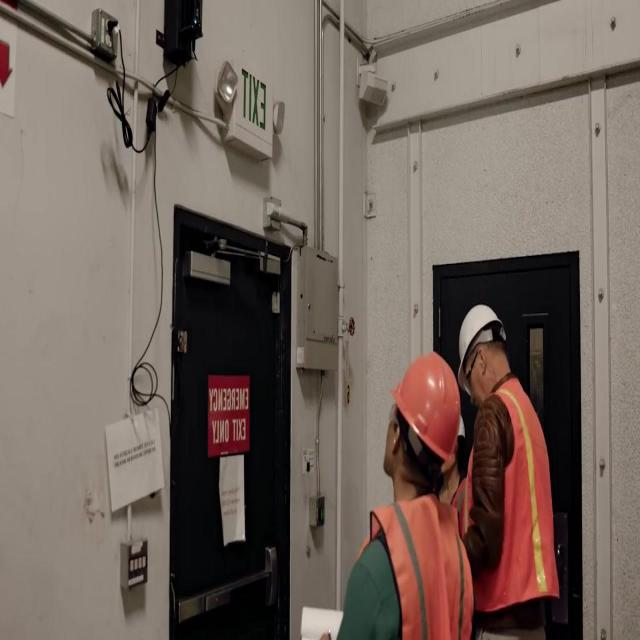Reflective-Jacket: (462, 375, 570, 627), (346, 489, 481, 640)
Safety-Helmet: (378, 344, 468, 480), (451, 292, 514, 374)
